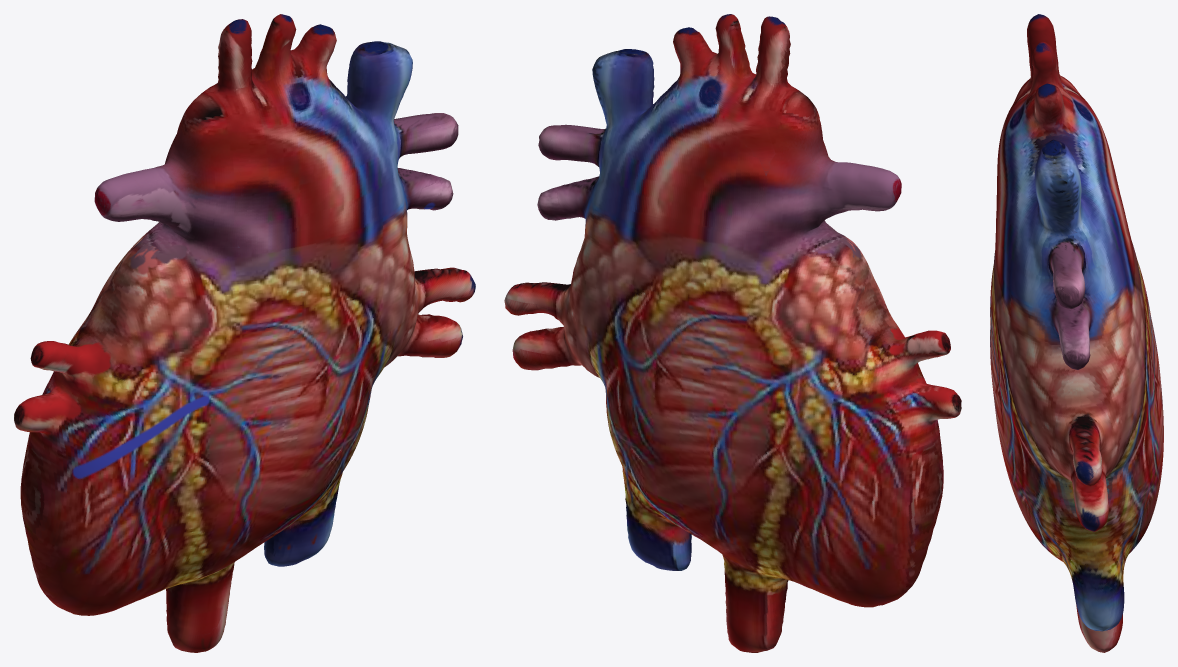
Rendered from jantung 2.glb.
3 renders of one model, left to right at view 1: azimuth 30°, elevation 25°; view 2: azimuth 150°, elevation 25°; view 3: azimuth 270°, elevation 25°, orthographic. The views are drawn at different scales.
Visible parts, largest first — view 1: mesh_id71; view 2: mesh_id71; view 3: mesh_id71.
Part boxes in pixels (<box>): mesh_id71: <box>14,14,475,652</box>; mesh_id71: <box>504,14,961,652</box>; mesh_id71: <box>990,14,1163,652</box>.
Size of the model in its own units: 0.2531 by 0.3336 by 0.0825.
1 material, 1 textured.
